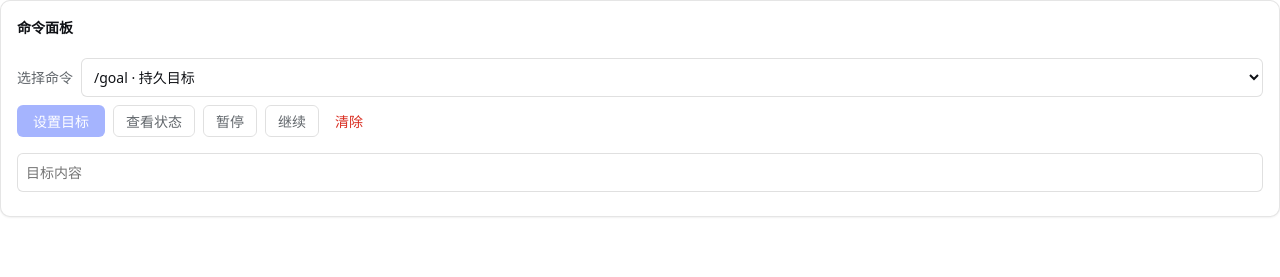
Test: CommandPanel T20.4 计划 › runs /plan and shows the produced plan
Select "/plan · 计划" in the dropdown labelled "选择命令" at (672, 78), box top-left (81, 58), bottom-right (1263, 97)
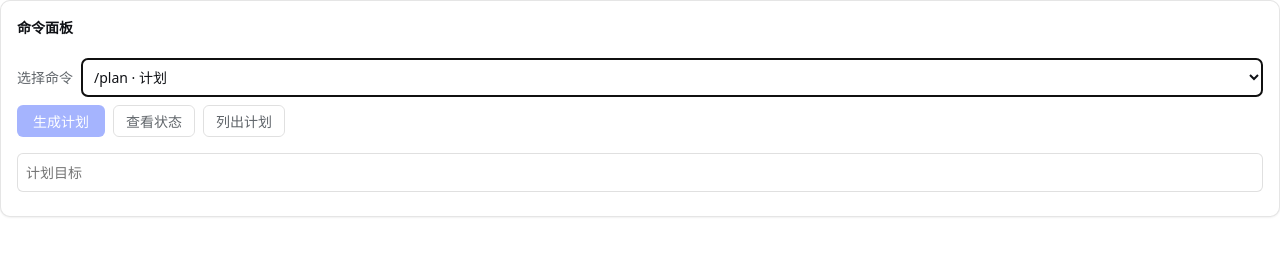
Type "实现 M15" into the field labelled "计划目标" at (640, 172), box top-left (17, 153), bottom-right (1263, 192)
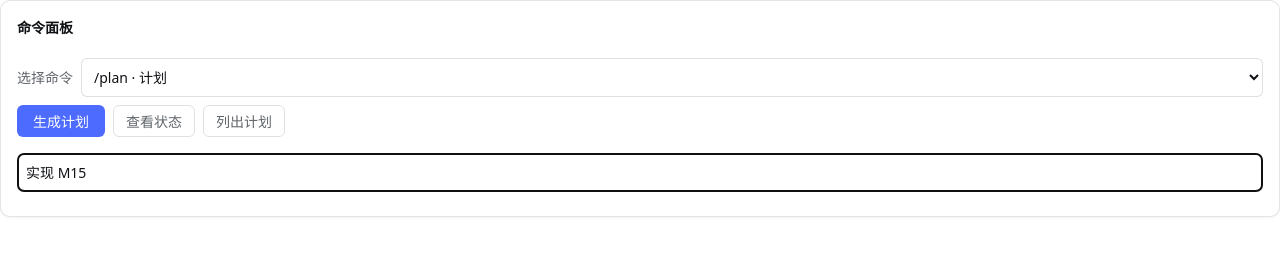
Click the button "生成计划" at (61, 121), box top-left (17, 105), bottom-right (105, 137)
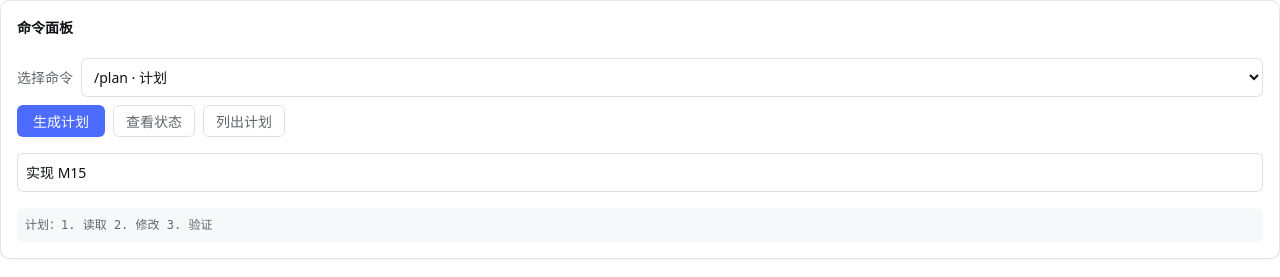
Result: the text named "执行结果" reads "计划：1. 读取 2. 修改 3. 验证" at top-left (25, 218), bottom-right (212, 232)
